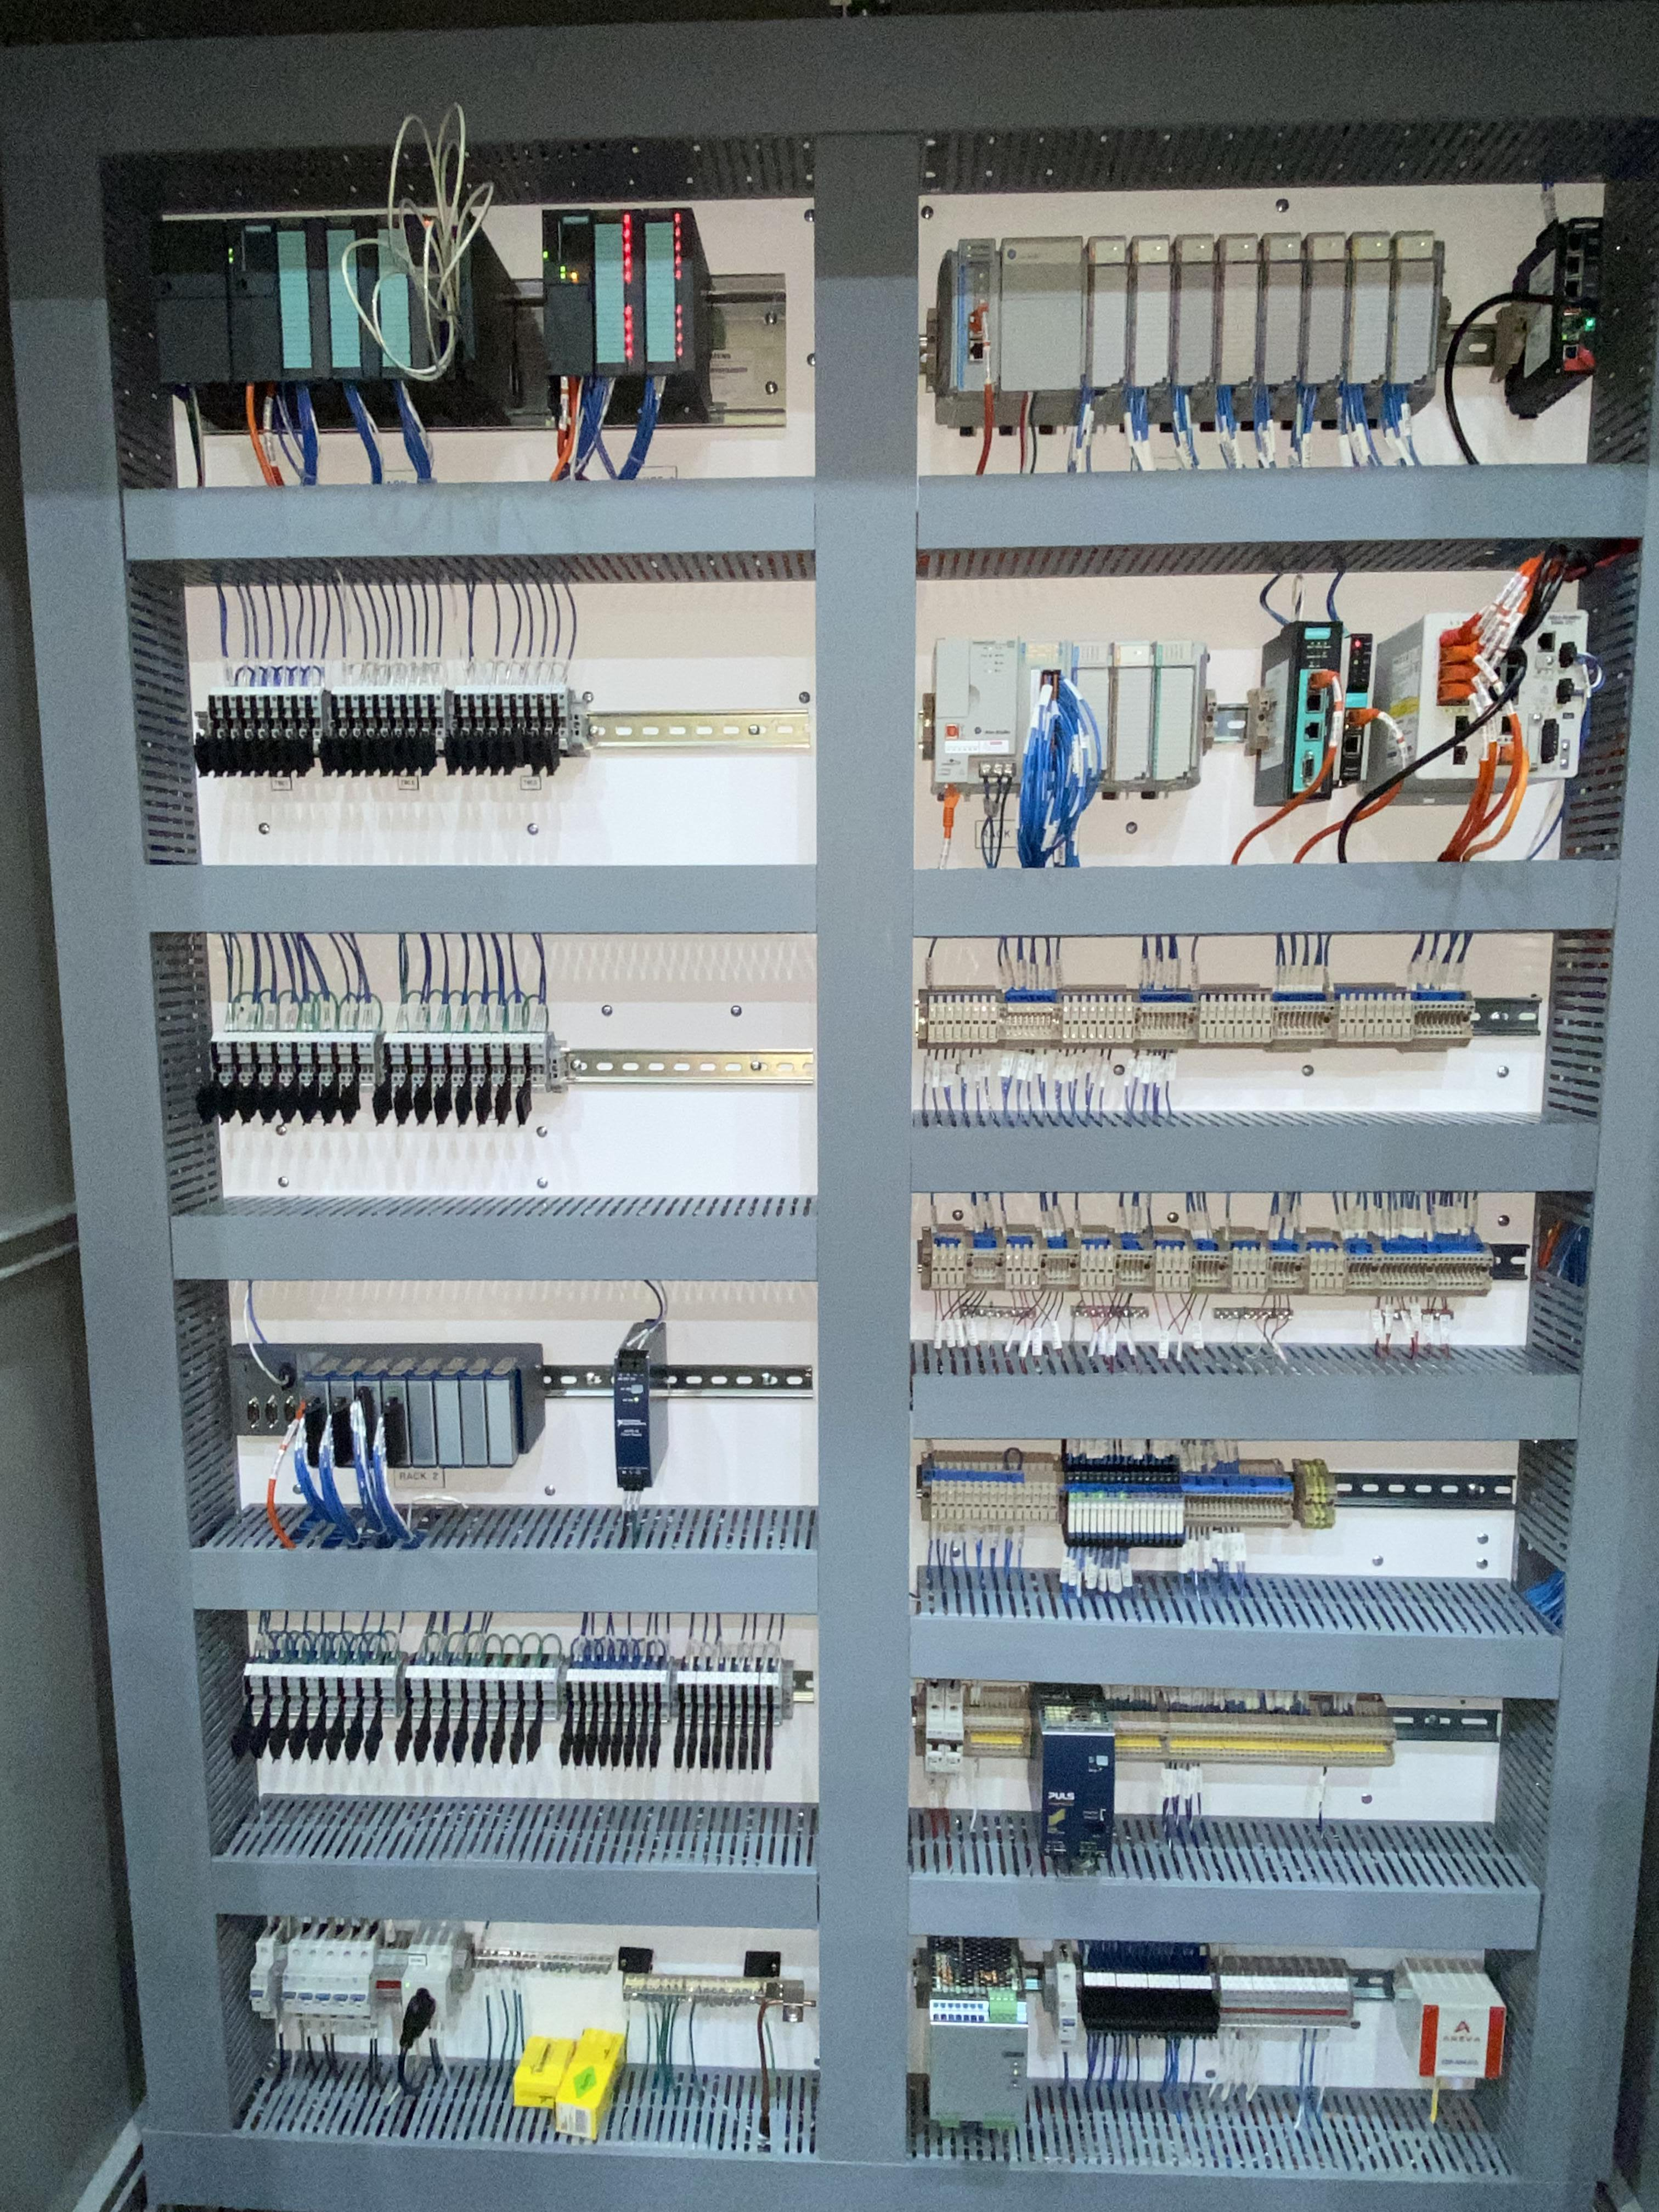AllenBradley: (931, 634, 1023, 799)
Siemens: (221, 219, 288, 388)
